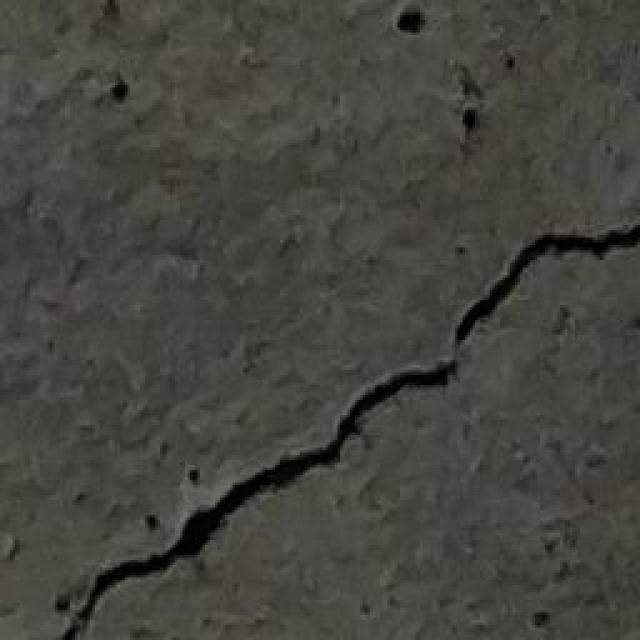Diagonal: (66, 221, 640, 640)
